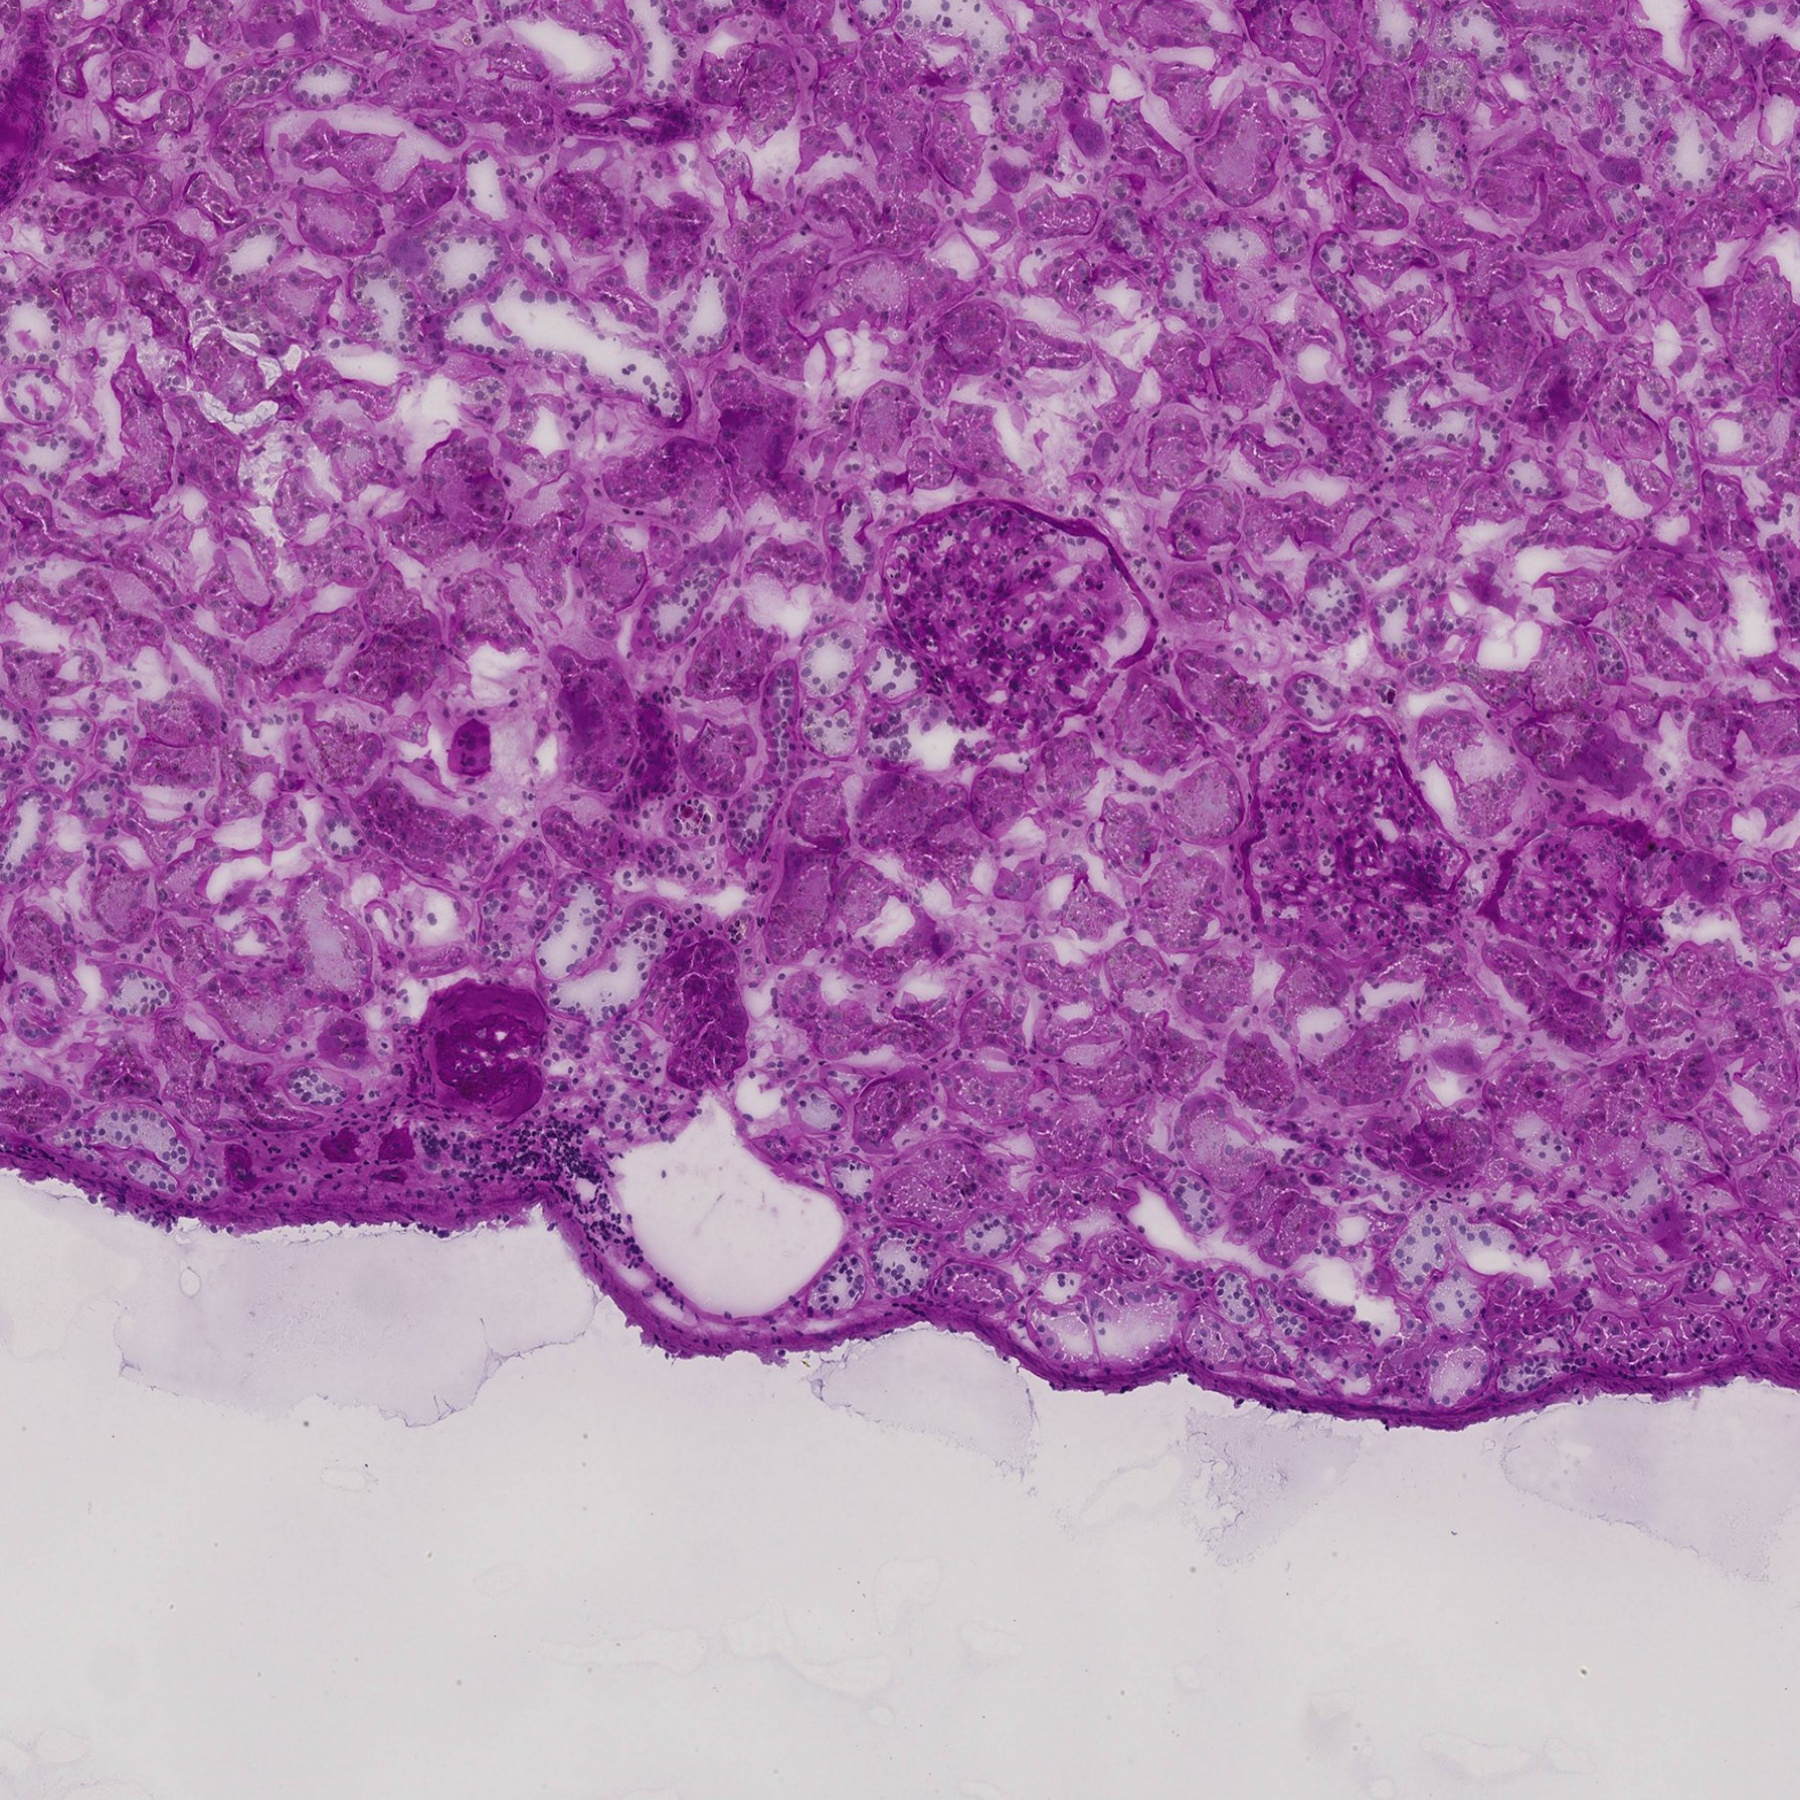Glomeruli: (880, 501, 1155, 753), (1235, 707, 1470, 968), (1488, 821, 1648, 961)
